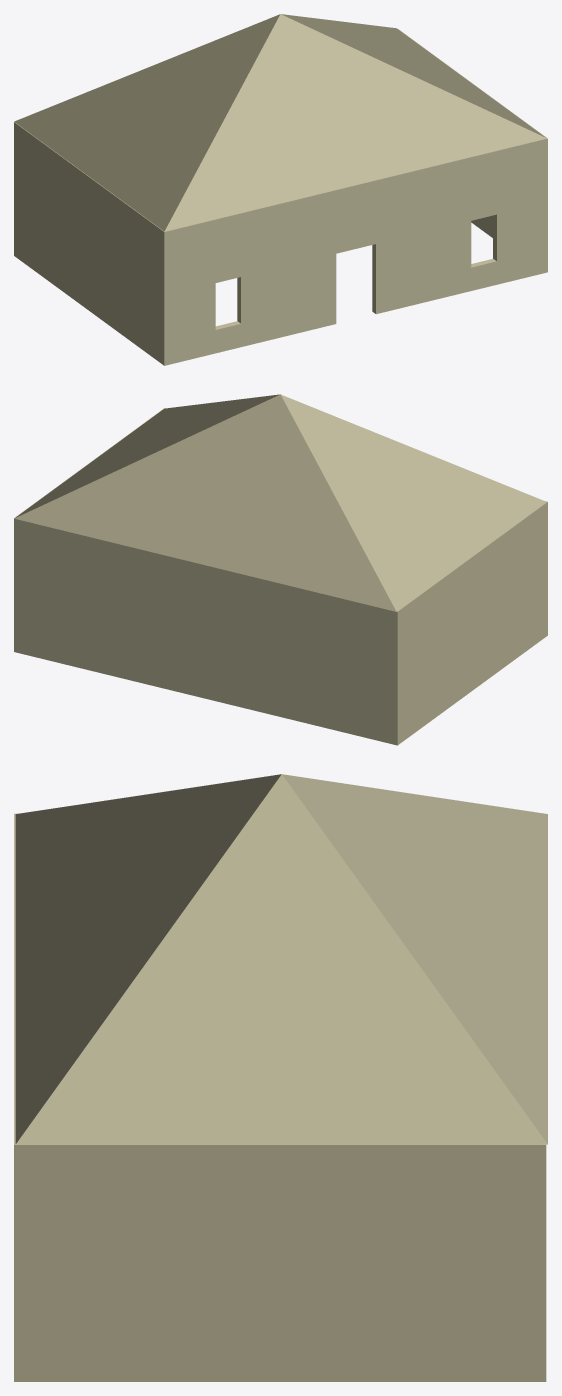
The model's file is SM_AnnieHouse.FBX.
3 renders of one model, top to bottom at view 1: azimuth 30°, elevation 25°; view 2: azimuth 150°, elevation 25°; view 3: azimuth 270°, elevation 25°, orthographic. The views are drawn at different scales.
Parts seen in each view (by area): view 1: SM_AnnieHouse; view 2: SM_AnnieHouse; view 3: SM_AnnieHouse.
Boxes of the visible parts, box(x1,y1,x2,y2) form: SM_AnnieHouse: box(14, 14, 547, 365); SM_AnnieHouse: box(14, 394, 547, 745); SM_AnnieHouse: box(14, 774, 547, 1381).
Size of the model in its own units: 1200 by 817 by 747.
